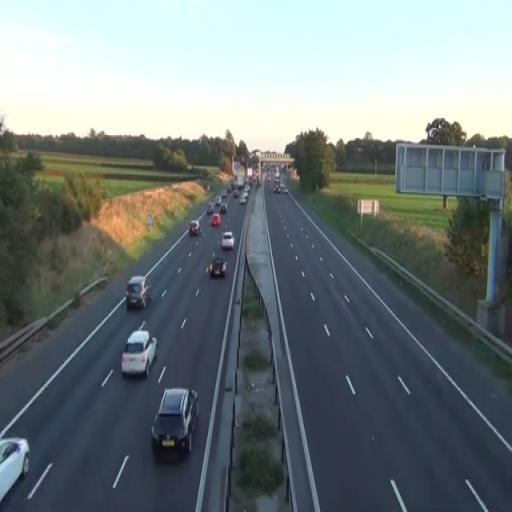Car: (151, 386, 199, 464), (0, 437, 31, 505), (120, 328, 158, 380), (125, 276, 152, 310), (209, 254, 227, 278), (220, 231, 234, 251), (190, 220, 200, 237), (210, 214, 221, 228)
